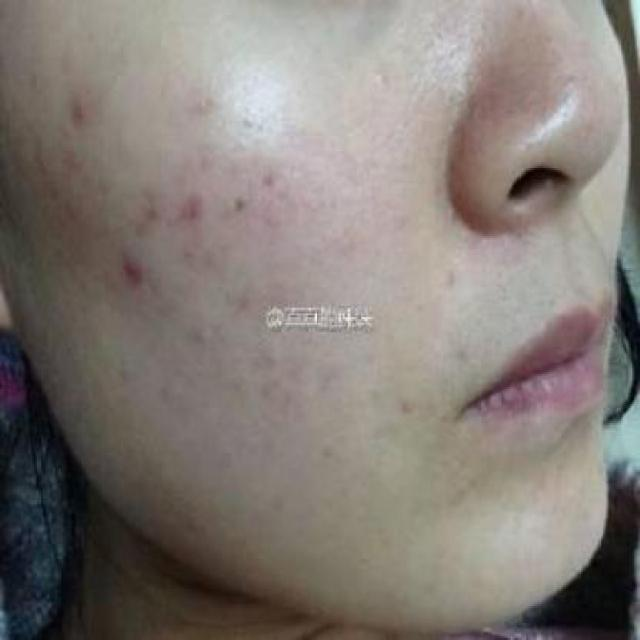dark spot: (112, 249, 162, 298), (56, 85, 106, 132), (132, 189, 166, 228), (179, 185, 206, 232), (394, 394, 424, 426), (257, 162, 281, 202), (225, 185, 252, 219)
